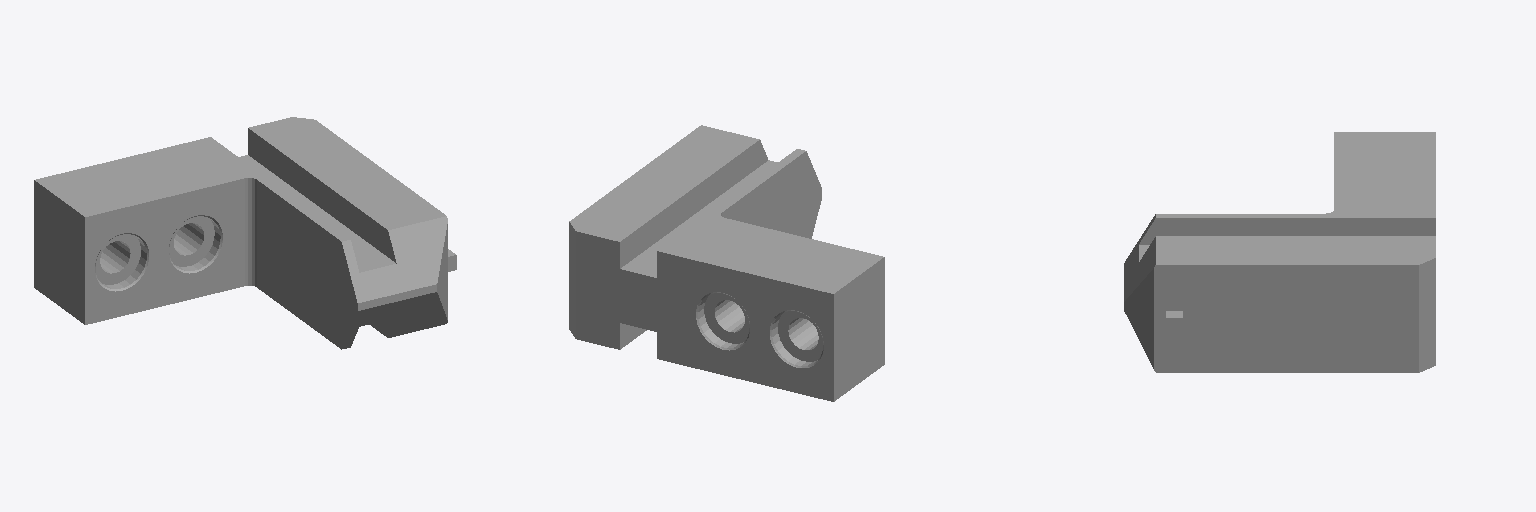
File: Gripper3F1.obj
3 renders of one model, left to right at view 1: azimuth 30°, elevation 25°; view 2: azimuth 150°, elevation 25°; view 3: azimuth 270°, elevation 25°, orthographic.
Size of the model in its own units: 0.039 by 0.014 by 0.0367.